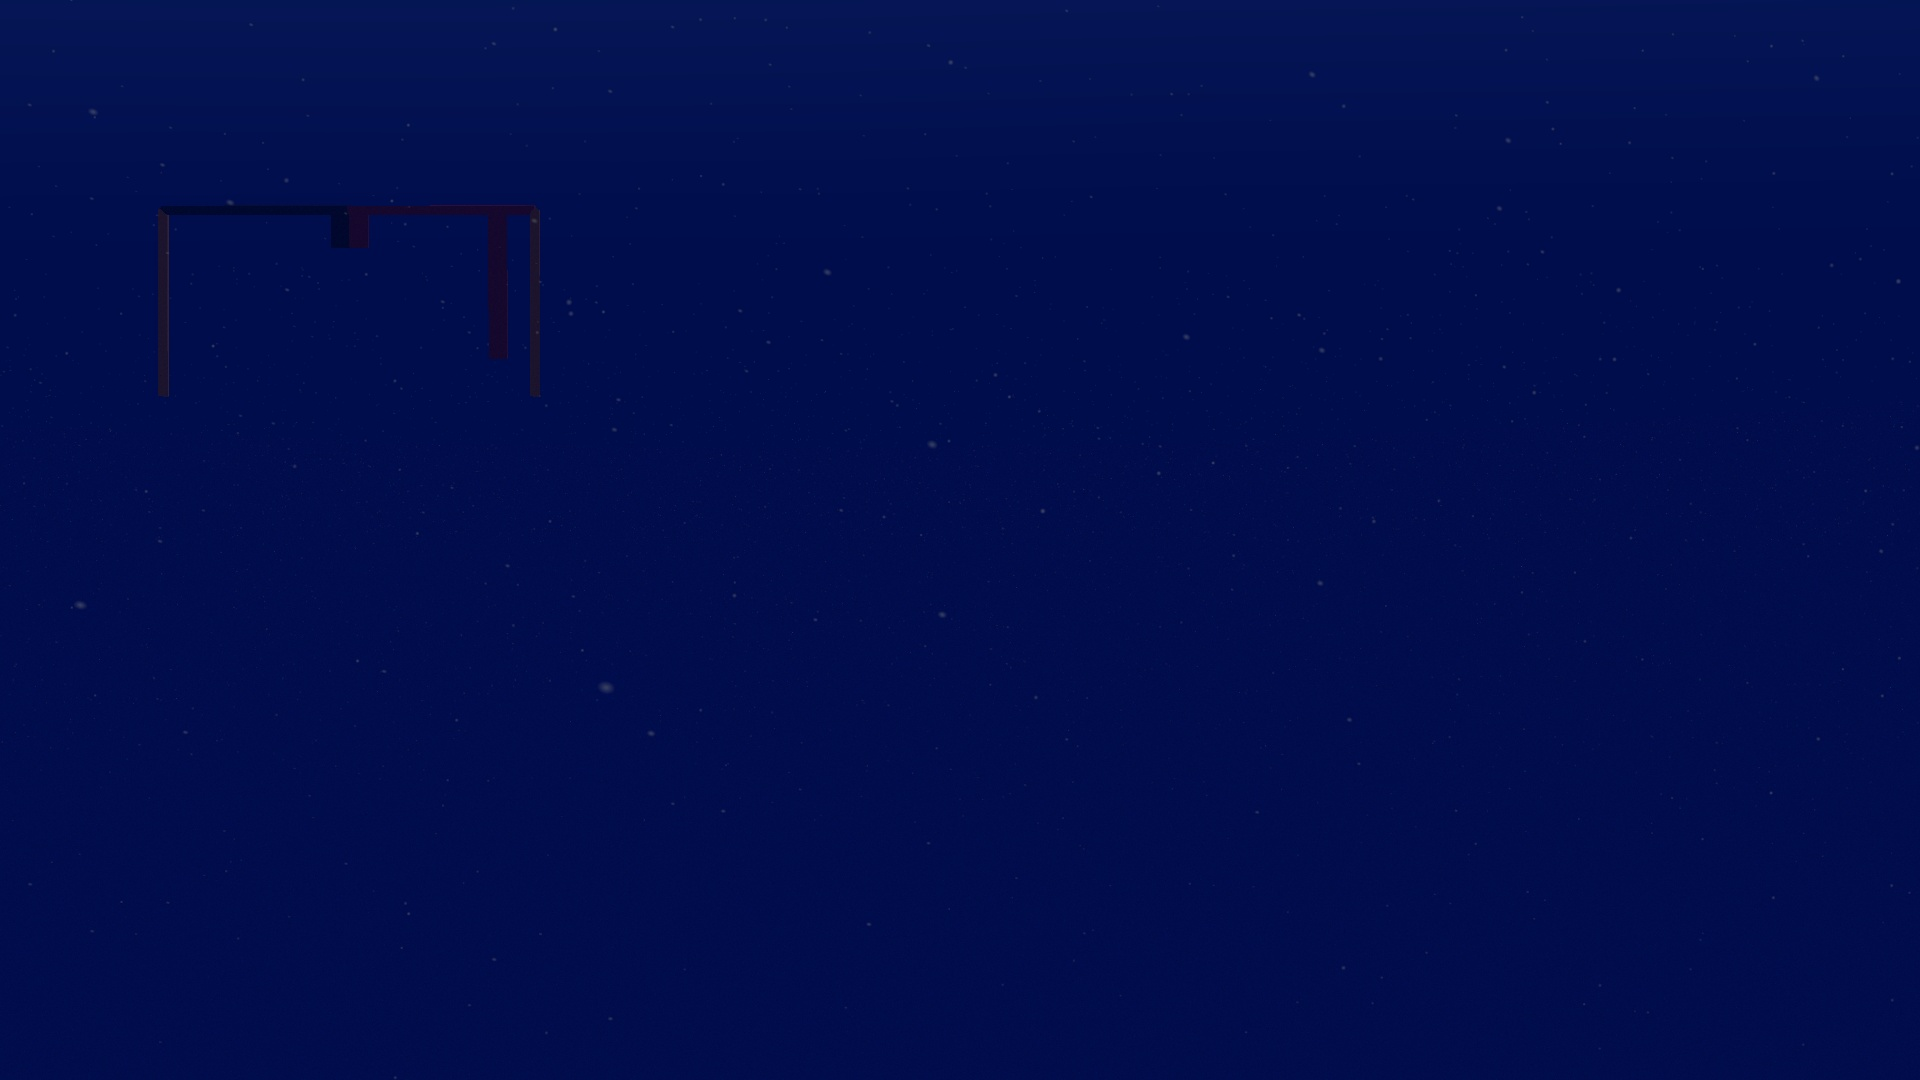Gate: (145, 194, 550, 410)
